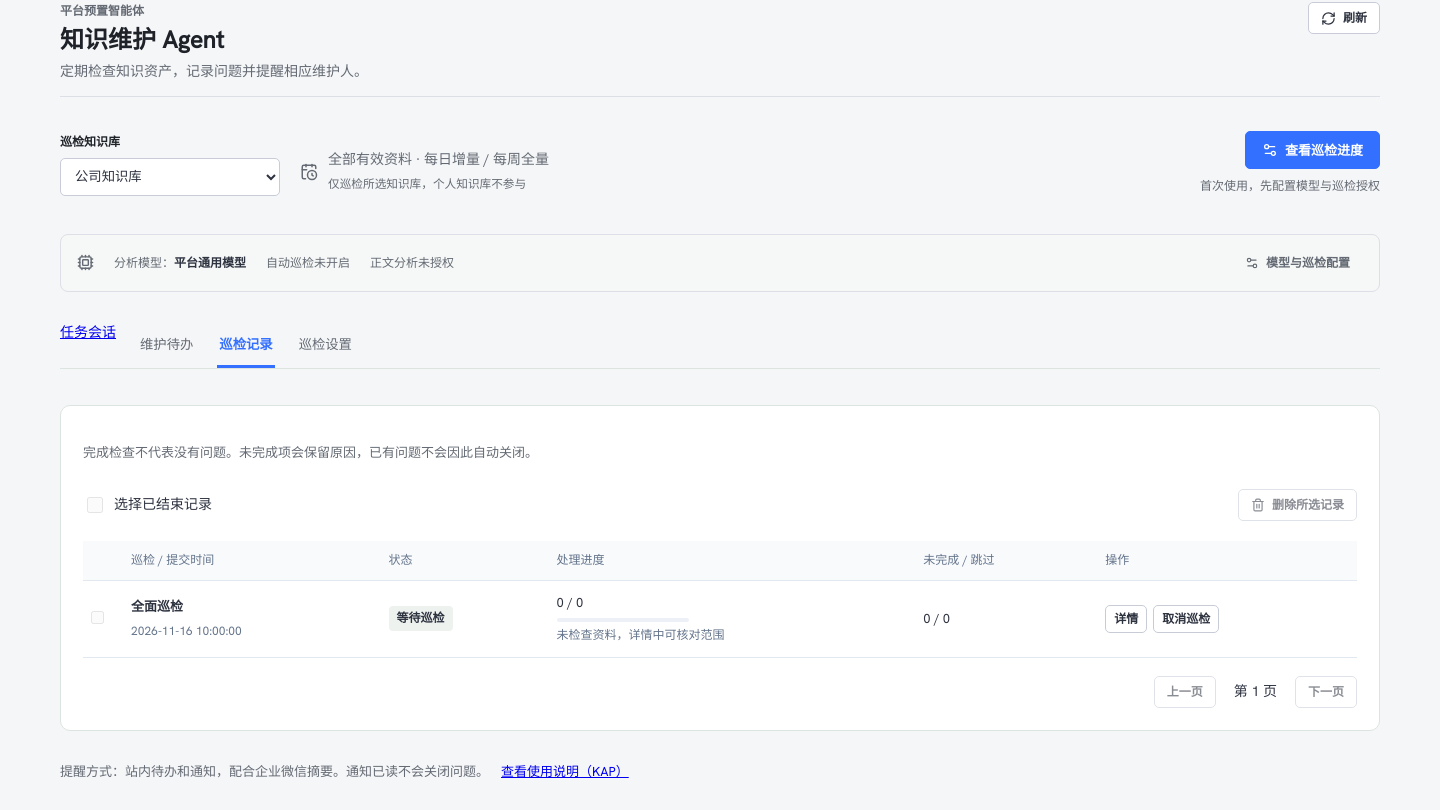
Test case: clears detail data when access is lost during refresh
The width and height of the screenshot is (1440, 810).
Click the button with aria-label "查看巡检详情" at (1126, 619), box top-left (1105, 605), bottom-right (1147, 633)
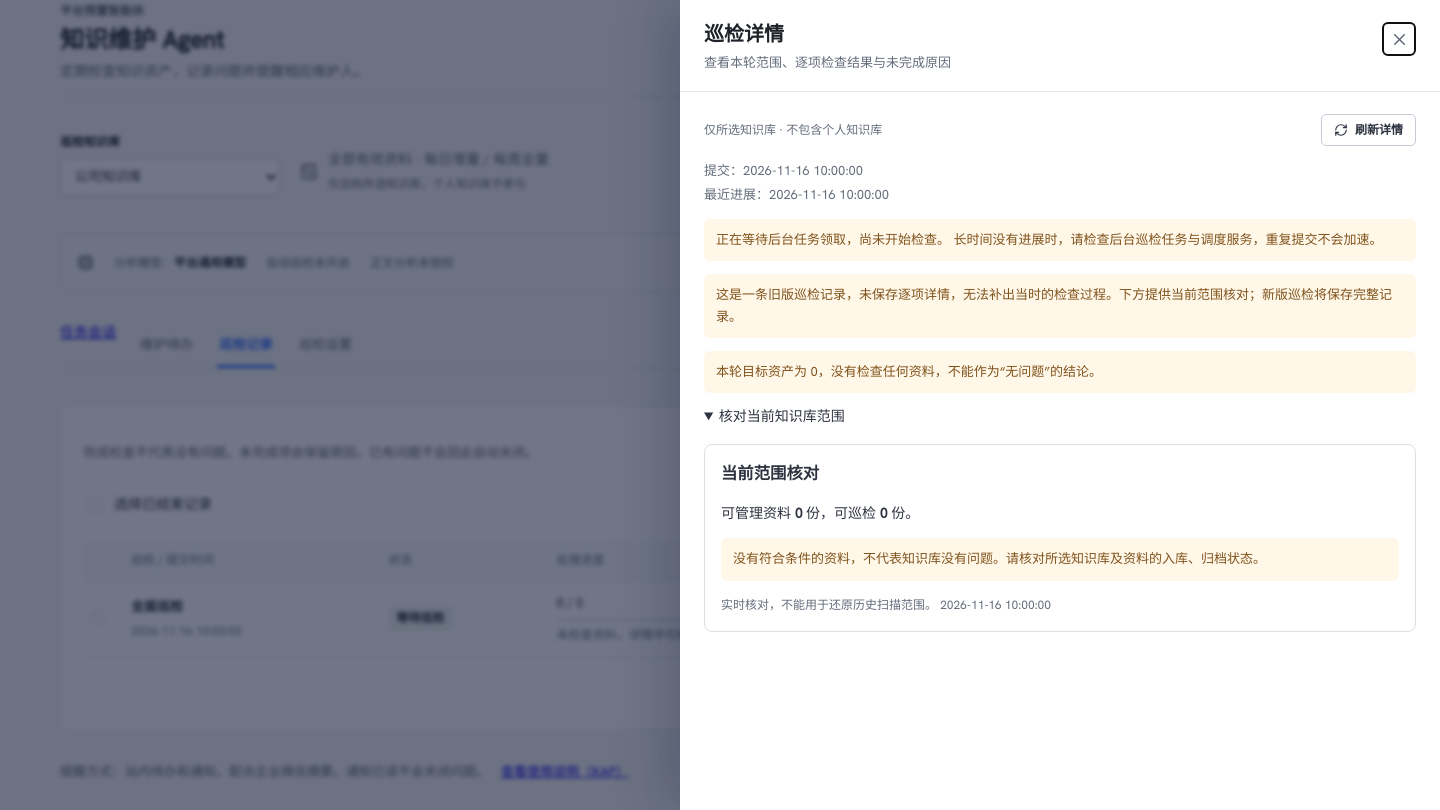
Check: the text "这是一条旧版巡检记录，未保存逐项详情，无法补出当时的检查过程。下方提供当前范围核对；新版巡检将保存完整记录。" is shown, box top-left (704, 274), bottom-right (1416, 338)
Click the button "刷新详情" at (1368, 130), box top-left (1321, 114), bottom-right (1416, 146)
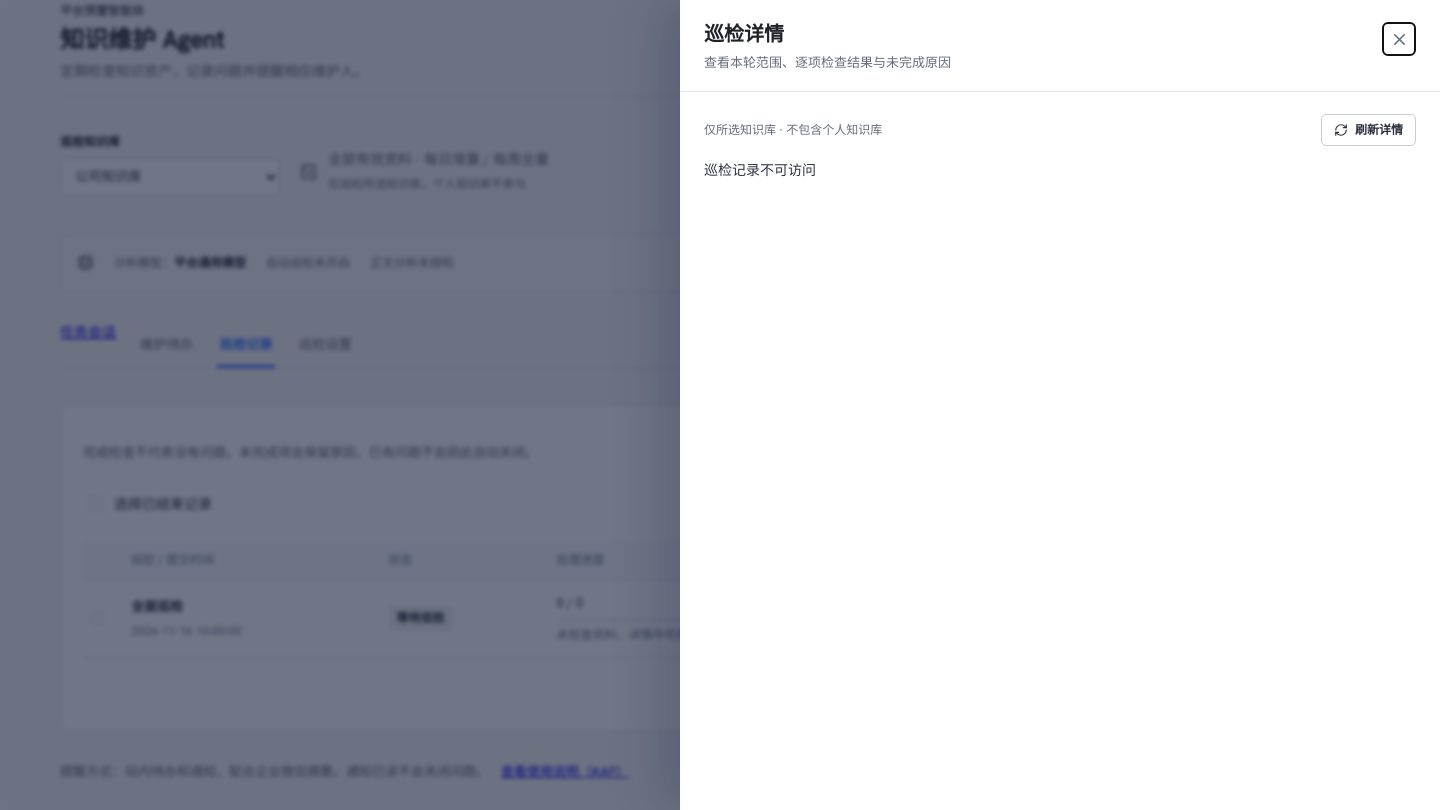
Check: the text "巡检记录不可访问" is shown, box top-left (704, 161), bottom-right (816, 179)
Check: the text "这是一条旧版巡检记录" is gone
